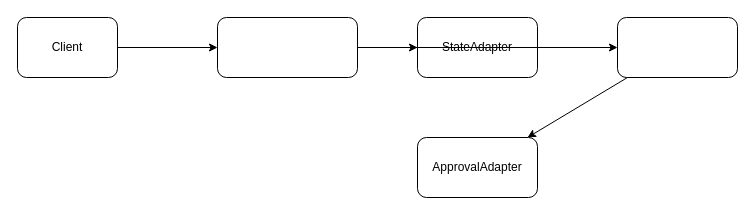
This 755x215 diagram has some shape labels left out. Each missing label, with the box of its shape:
Pi SDK Agent: (616, 16, 738, 78)
PiWorkflow Engine: (216, 16, 358, 78)
